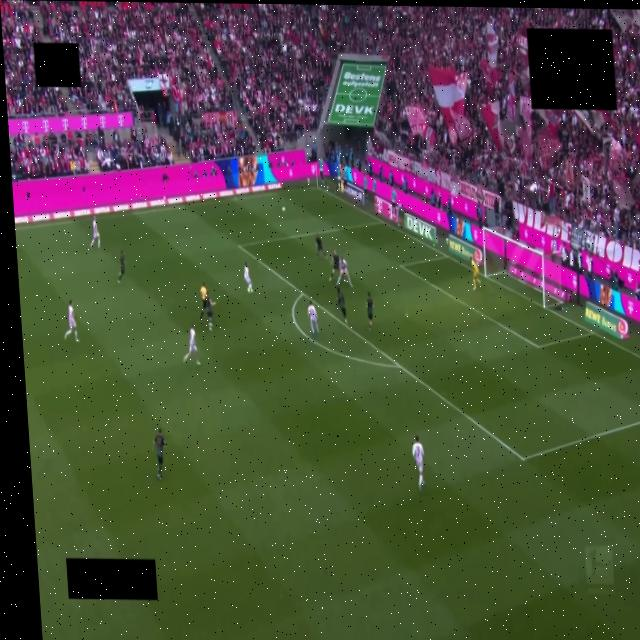ball: (282, 207, 285, 211)
player: (412, 436, 424, 490), (184, 326, 200, 365), (64, 301, 79, 342), (153, 429, 165, 480), (337, 258, 353, 286), (205, 293, 215, 330), (308, 301, 318, 336), (337, 287, 346, 324), (470, 258, 480, 290), (90, 217, 100, 248), (329, 251, 339, 281), (118, 251, 126, 283), (244, 262, 252, 292), (316, 235, 326, 258), (367, 292, 373, 330)
referee: (200, 283, 207, 321)
